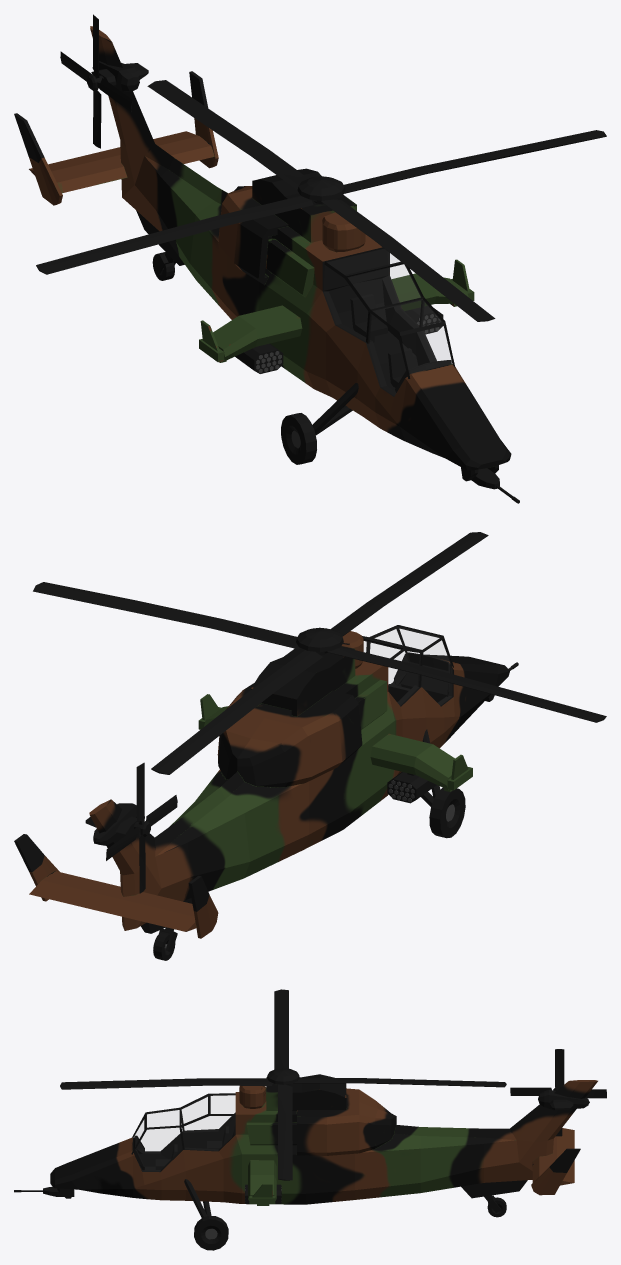
The model's file is heli_support.glb.
3 views of the same model, one above another, from view 1: azimuth 30°, elevation 25°; view 2: azimuth 150°, elevation 25°; view 3: azimuth 270°, elevation 25° (orthographic). The views are drawn at different scales.
Visible parts, largest first — view 1: Hull, Rotor, Tail_Rotor, Tail_Support, Seat Back, Seat Front; view 2: Hull, Rotor, Tail_Rotor, Tail_Support, Dashboard; view 3: Hull, Rotor, Tail_Rotor, Tail_Support.
Part boxes in pixels (x1,y1,x2,y2): Hull: (14,26,511,470); Rotor: (36,80,606,321); Tail_Rotor: (60,14,132,148); Tail_Support: (87,61,148,91); Seat Back: (350,294,387,342); Seat Front: (388,348,413,387); Hull: (14,625,509,960); Rotor: (33,532,606,774); Tail_Rotor: (106,762,177,893); Tail_Support: (85,803,150,845); Dashboard: (394,652,450,696); Hull: (50,1068,597,1250); Rotor: (60,989,506,1180); Tail_Rotor: (510,1049,606,1136); Tail_Support: (538,1087,589,1110).
Bounding box in the file's own units: 1268 × 525 × 1683.
Materials: 4 (1 with a texture image).
